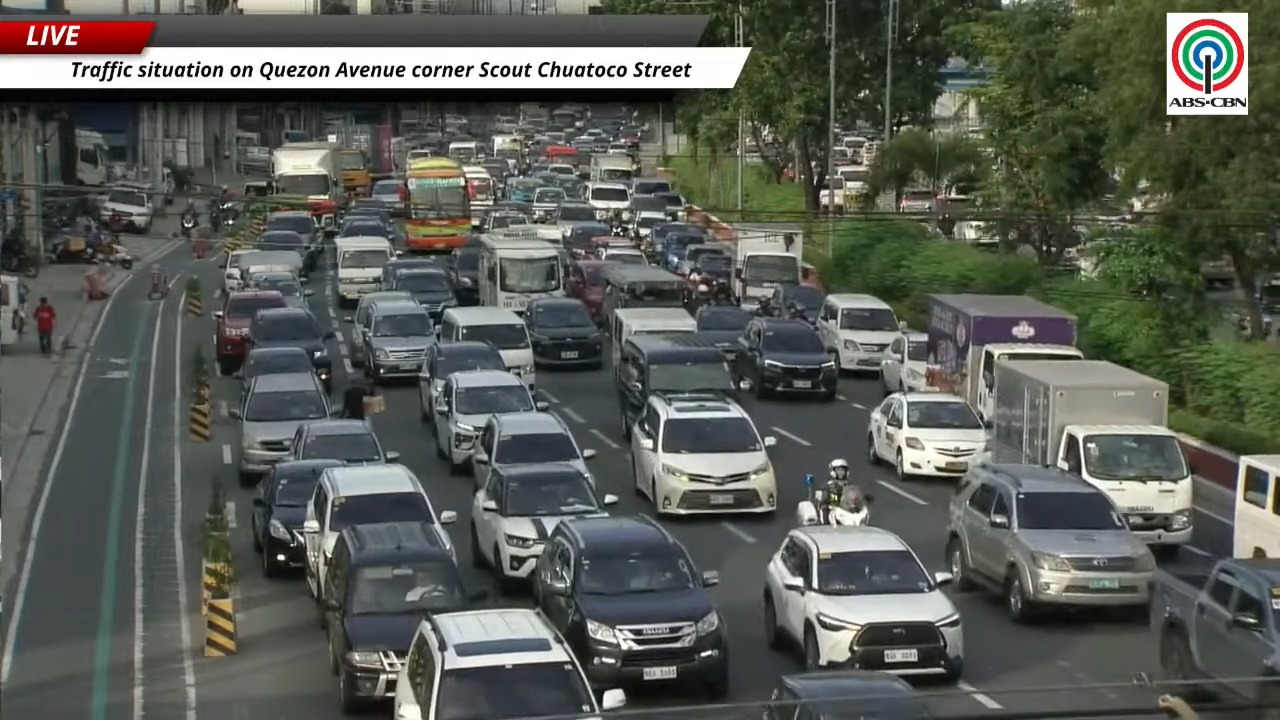bus: (478, 228, 563, 313), (404, 157, 471, 251), (1233, 455, 1279, 557)
car: (533, 515, 728, 699), (945, 462, 1156, 625), (323, 522, 486, 713), (764, 526, 962, 680), (393, 608, 625, 719), (303, 464, 456, 608), (470, 463, 617, 585), (631, 392, 777, 513), (614, 333, 734, 439), (432, 369, 548, 473), (229, 372, 330, 486), (251, 459, 342, 577), (867, 391, 985, 479), (472, 410, 595, 487), (731, 317, 837, 401), (764, 669, 931, 719), (246, 307, 335, 391), (418, 341, 505, 422), (817, 293, 901, 371), (357, 301, 436, 383), (213, 290, 287, 375), (524, 298, 602, 368), (343, 290, 411, 366), (290, 418, 399, 464), (384, 267, 457, 321), (264, 210, 322, 270), (694, 304, 752, 360), (241, 347, 313, 389), (880, 331, 927, 393), (100, 182, 157, 233), (650, 223, 709, 271), (255, 230, 312, 276), (565, 259, 604, 324), (248, 271, 312, 308), (677, 243, 733, 285), (771, 283, 824, 325), (379, 257, 440, 290), (446, 246, 480, 305), (561, 222, 610, 256), (338, 216, 398, 243), (221, 249, 255, 296), (630, 203, 667, 239), (343, 198, 392, 225), (370, 180, 405, 216), (481, 208, 531, 232), (533, 187, 566, 221), (556, 199, 594, 228), (600, 247, 648, 265)
motorcycle: (795, 474, 873, 526), (0, 234, 38, 277), (180, 212, 197, 237), (753, 297, 774, 317)
truck: (986, 360, 1193, 557), (925, 294, 1082, 423), (1152, 558, 1279, 707), (271, 142, 342, 233), (733, 224, 802, 308), (338, 147, 371, 195), (590, 155, 634, 182)
